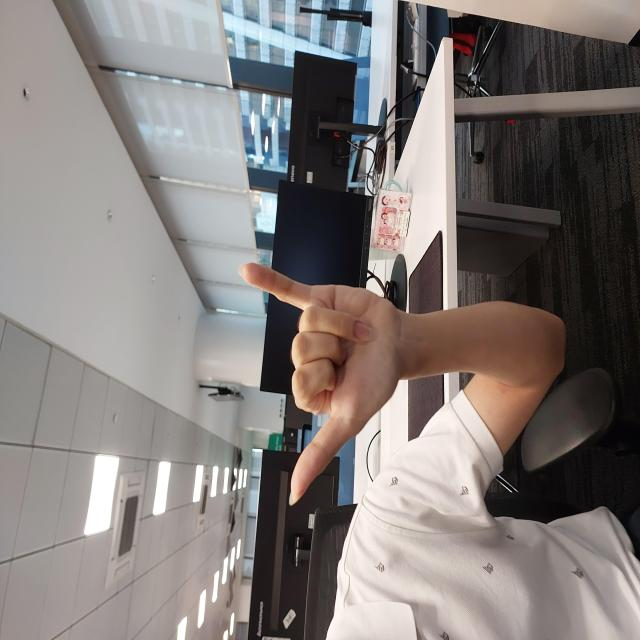Y: (136, 238, 382, 402)
